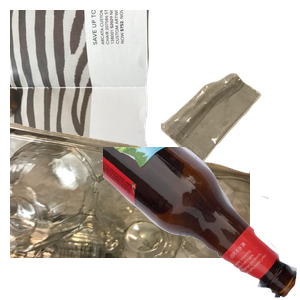glass: (103, 147, 300, 300)
paper: (10, 10, 250, 190)
plastic: (10, 120, 250, 300)
trash: (158, 71, 300, 227)
